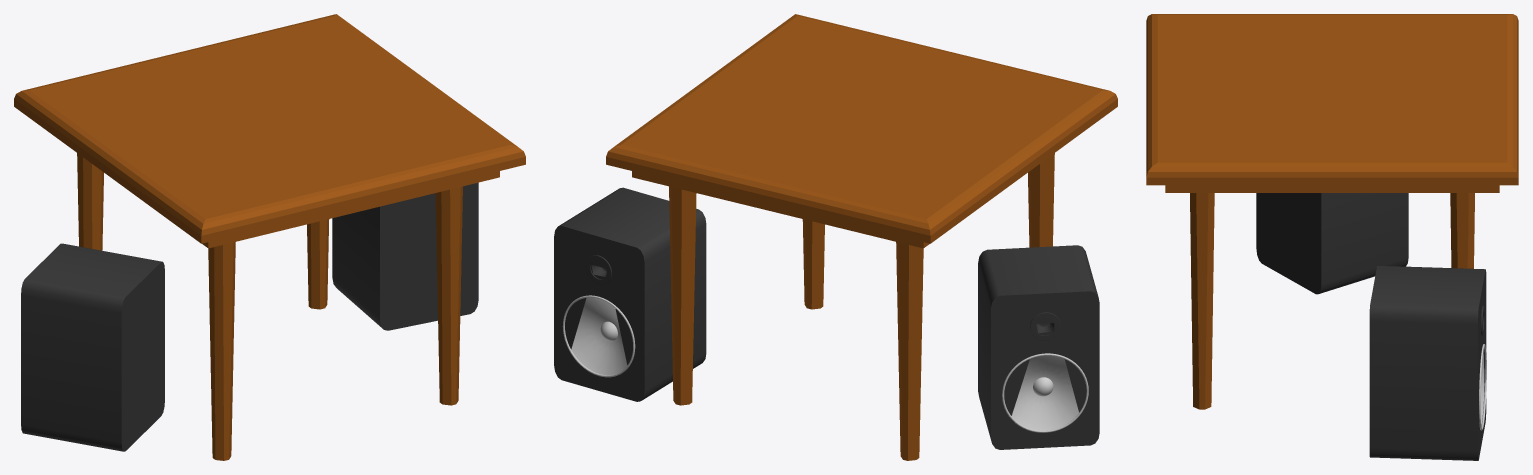
The model's file is speakersTable.fbx.
3 renders of one model, left to right at view 1: azimuth 30°, elevation 25°; view 2: azimuth 150°, elevation 25°; view 3: azimuth 270°, elevation 25°, orthographic.
Visible parts, largest first — view 1: Cube, Cube.002, Cube.003; view 2: Cube, Cube.003, Cube.002, Torus, Torus.001; view 3: Cube, Cube.003, Cube.002, Torus.001.
Part boxes in pixels (x1,y1,x2,y2): Cube: (14,14,525,460); Cube.002: (21,243,164,451); Cube.003: (332,182,478,330); Cube: (606,14,1117,460); Cube.003: (554,187,706,401); Cube.002: (978,245,1099,449); Torus: (1002,353,1088,432); Torus.001: (562,295,635,377); Cube: (1146,14,1518,409); Cube.003: (1369,265,1486,460); Cube.002: (1256,193,1408,294); Torus.001: (1479,344,1486,430).
Size of the model in its own units: 295 by 155 by 200.
